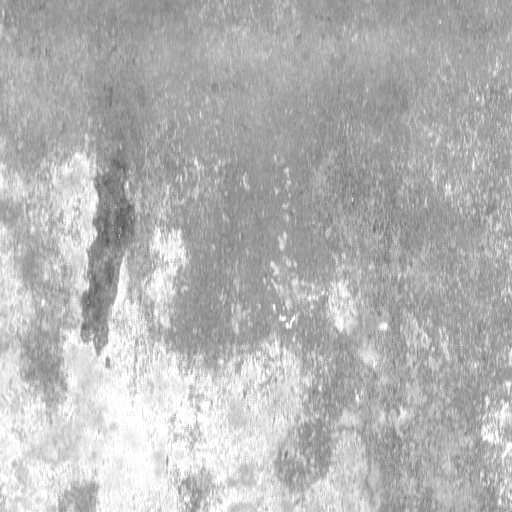aokeng: (77, 159, 135, 360)
